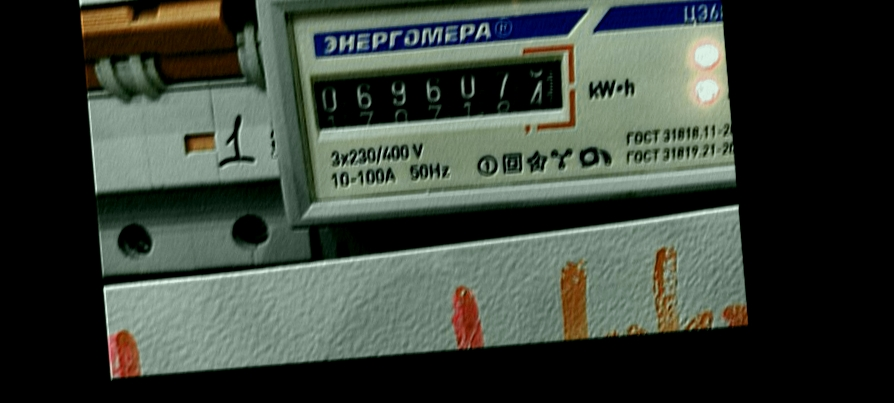0: (459, 70, 481, 102), (321, 85, 341, 114)
4: (529, 80, 547, 109)
6: (424, 75, 446, 106), (356, 81, 377, 110)
7: (495, 69, 515, 101)
9: (391, 79, 410, 108)
screen: (297, 38, 588, 150)
